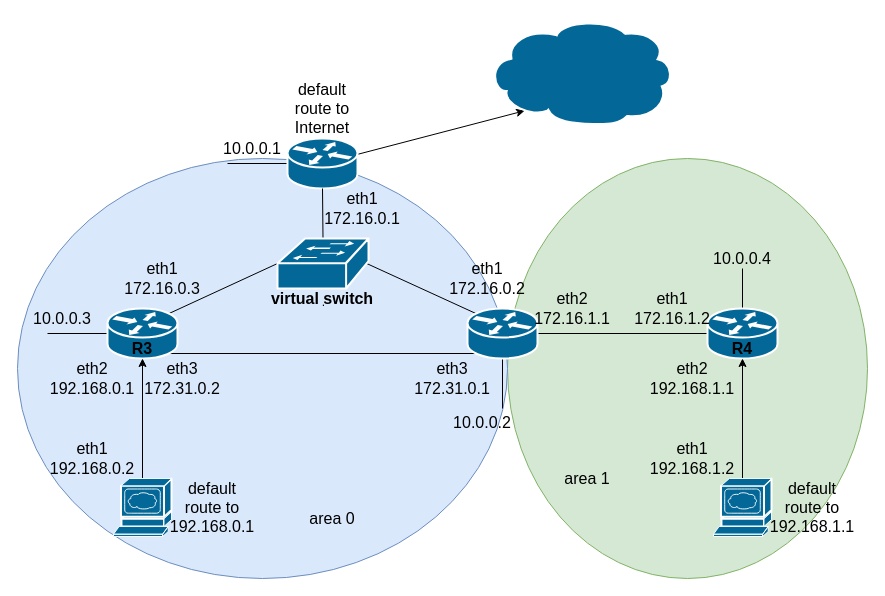
Some shapes in this 885 by 596 pixel diagram are drawn without their labels. The box of each missing label's shape, as (x1, y1, x2, y2) in pixels:
R1: (286, 137, 358, 189)
R2: (466, 307, 538, 359)
